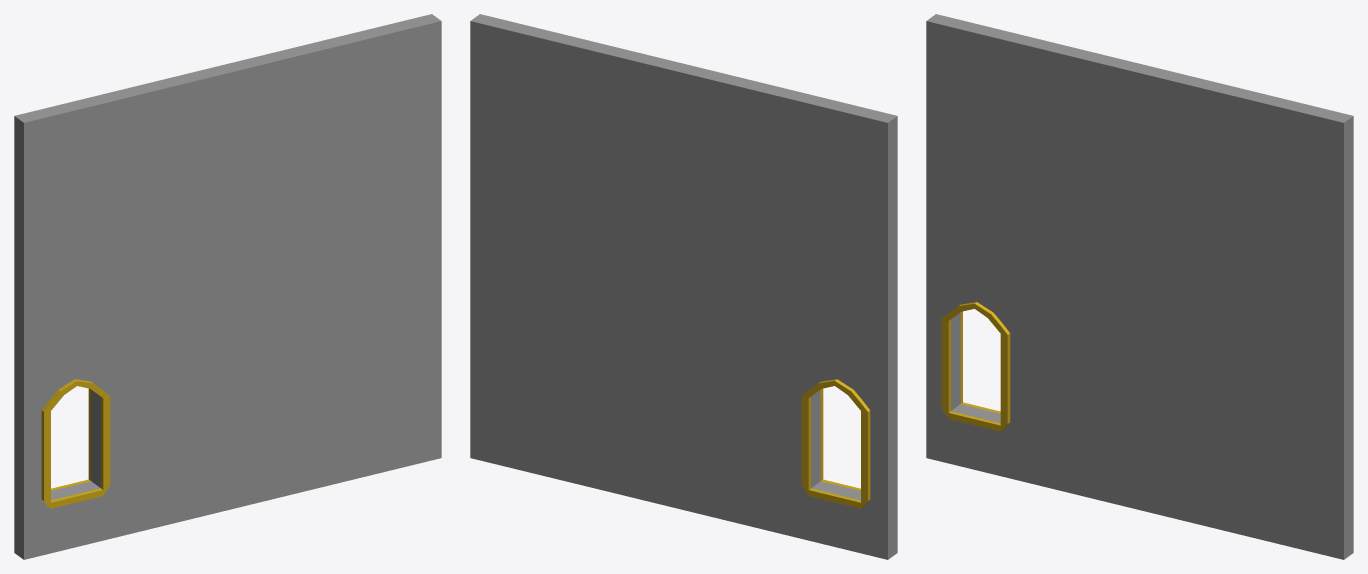
Rendered from trainDoorWallSide.fbx.
3 views of the same model, side by side, from view 1: azimuth 30°, elevation 25°; view 2: azimuth 150°, elevation 25°; view 3: azimuth 330°, elevation 25° (orthographic).
Parts seen in each view (by area): view 1: Cube; view 2: Cube; view 3: Cube.
Part boxes in pixels (<box>): Cube: <box>14,14,441,559</box>; Cube: <box>470,14,897,559</box>; Cube: <box>926,14,1353,559</box>.
Size of the model in its own units: 1000 by 1000 by 60.
